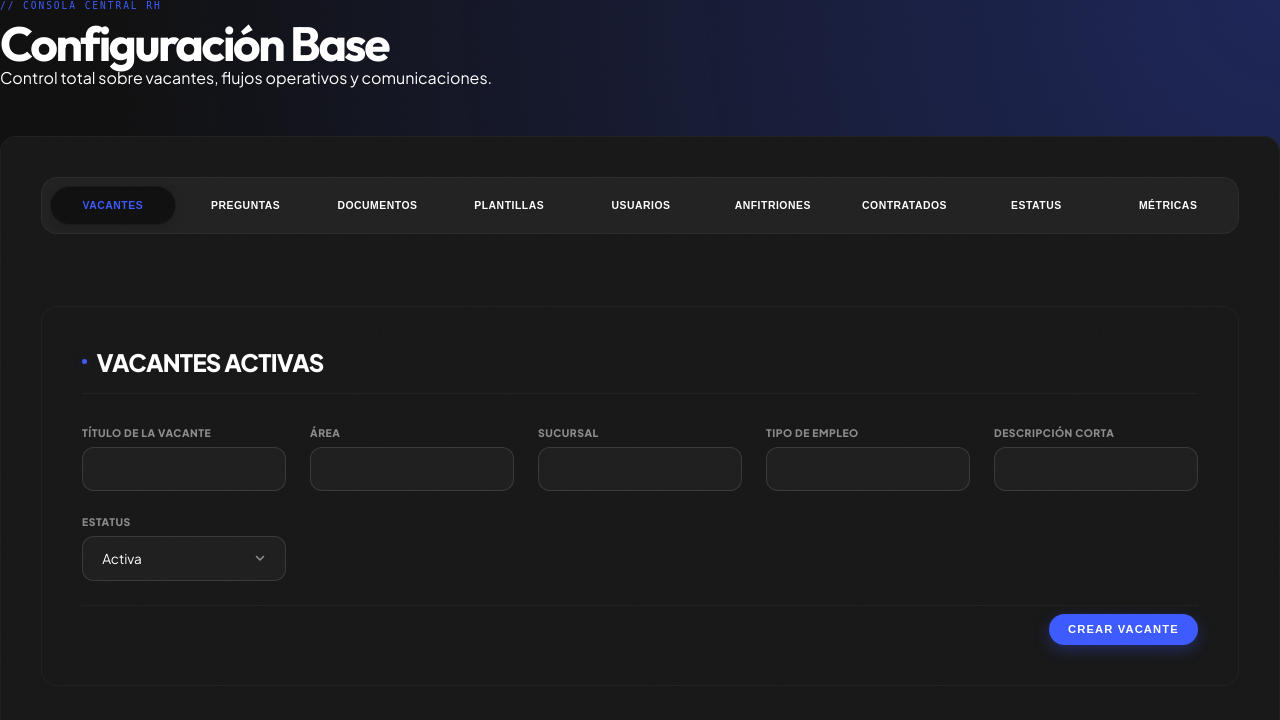
CrmAdmin › pestaña Plantillas muestra catálogo de variables
The width and height of the screenshot is (1280, 720).
Click the button "Plantillas". click: (509, 205)
box: [447,186,571,225]
(page scrolled)
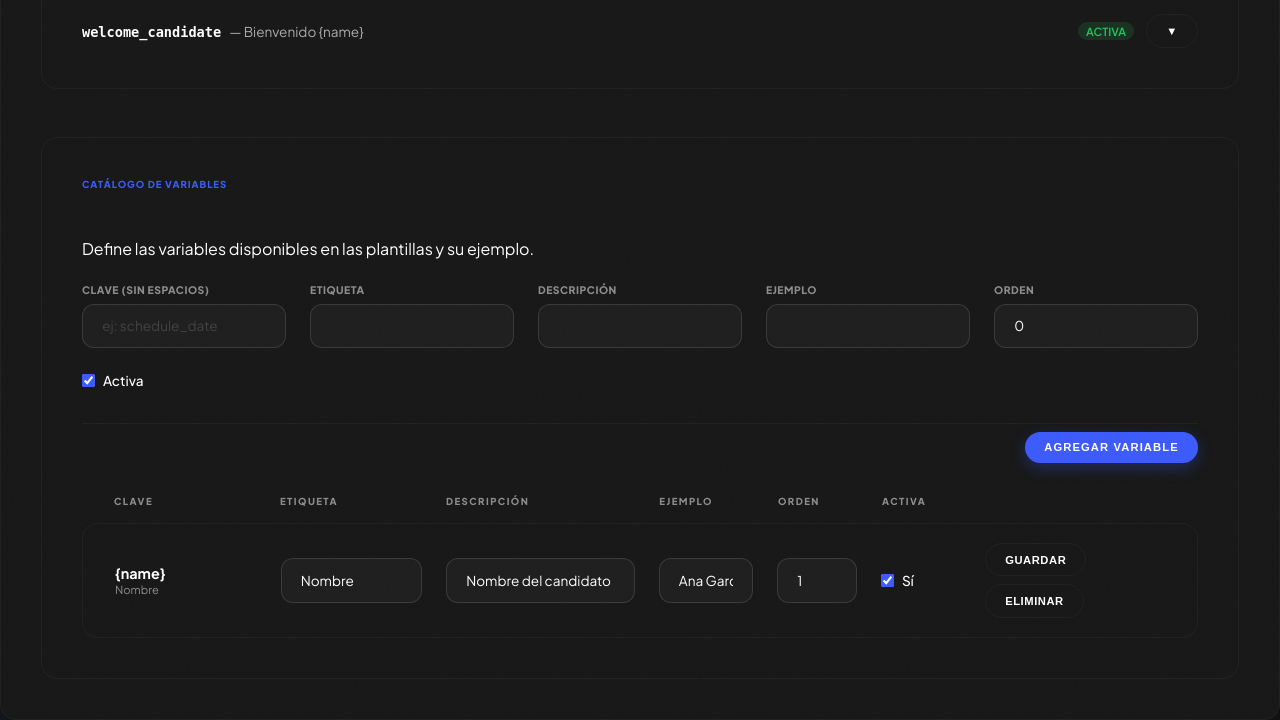
Expected: the heading "Catálogo de variables" is shown, [82,178,227,190]
Expected: the text "Nombre" is shown, [115,582,159,596]
